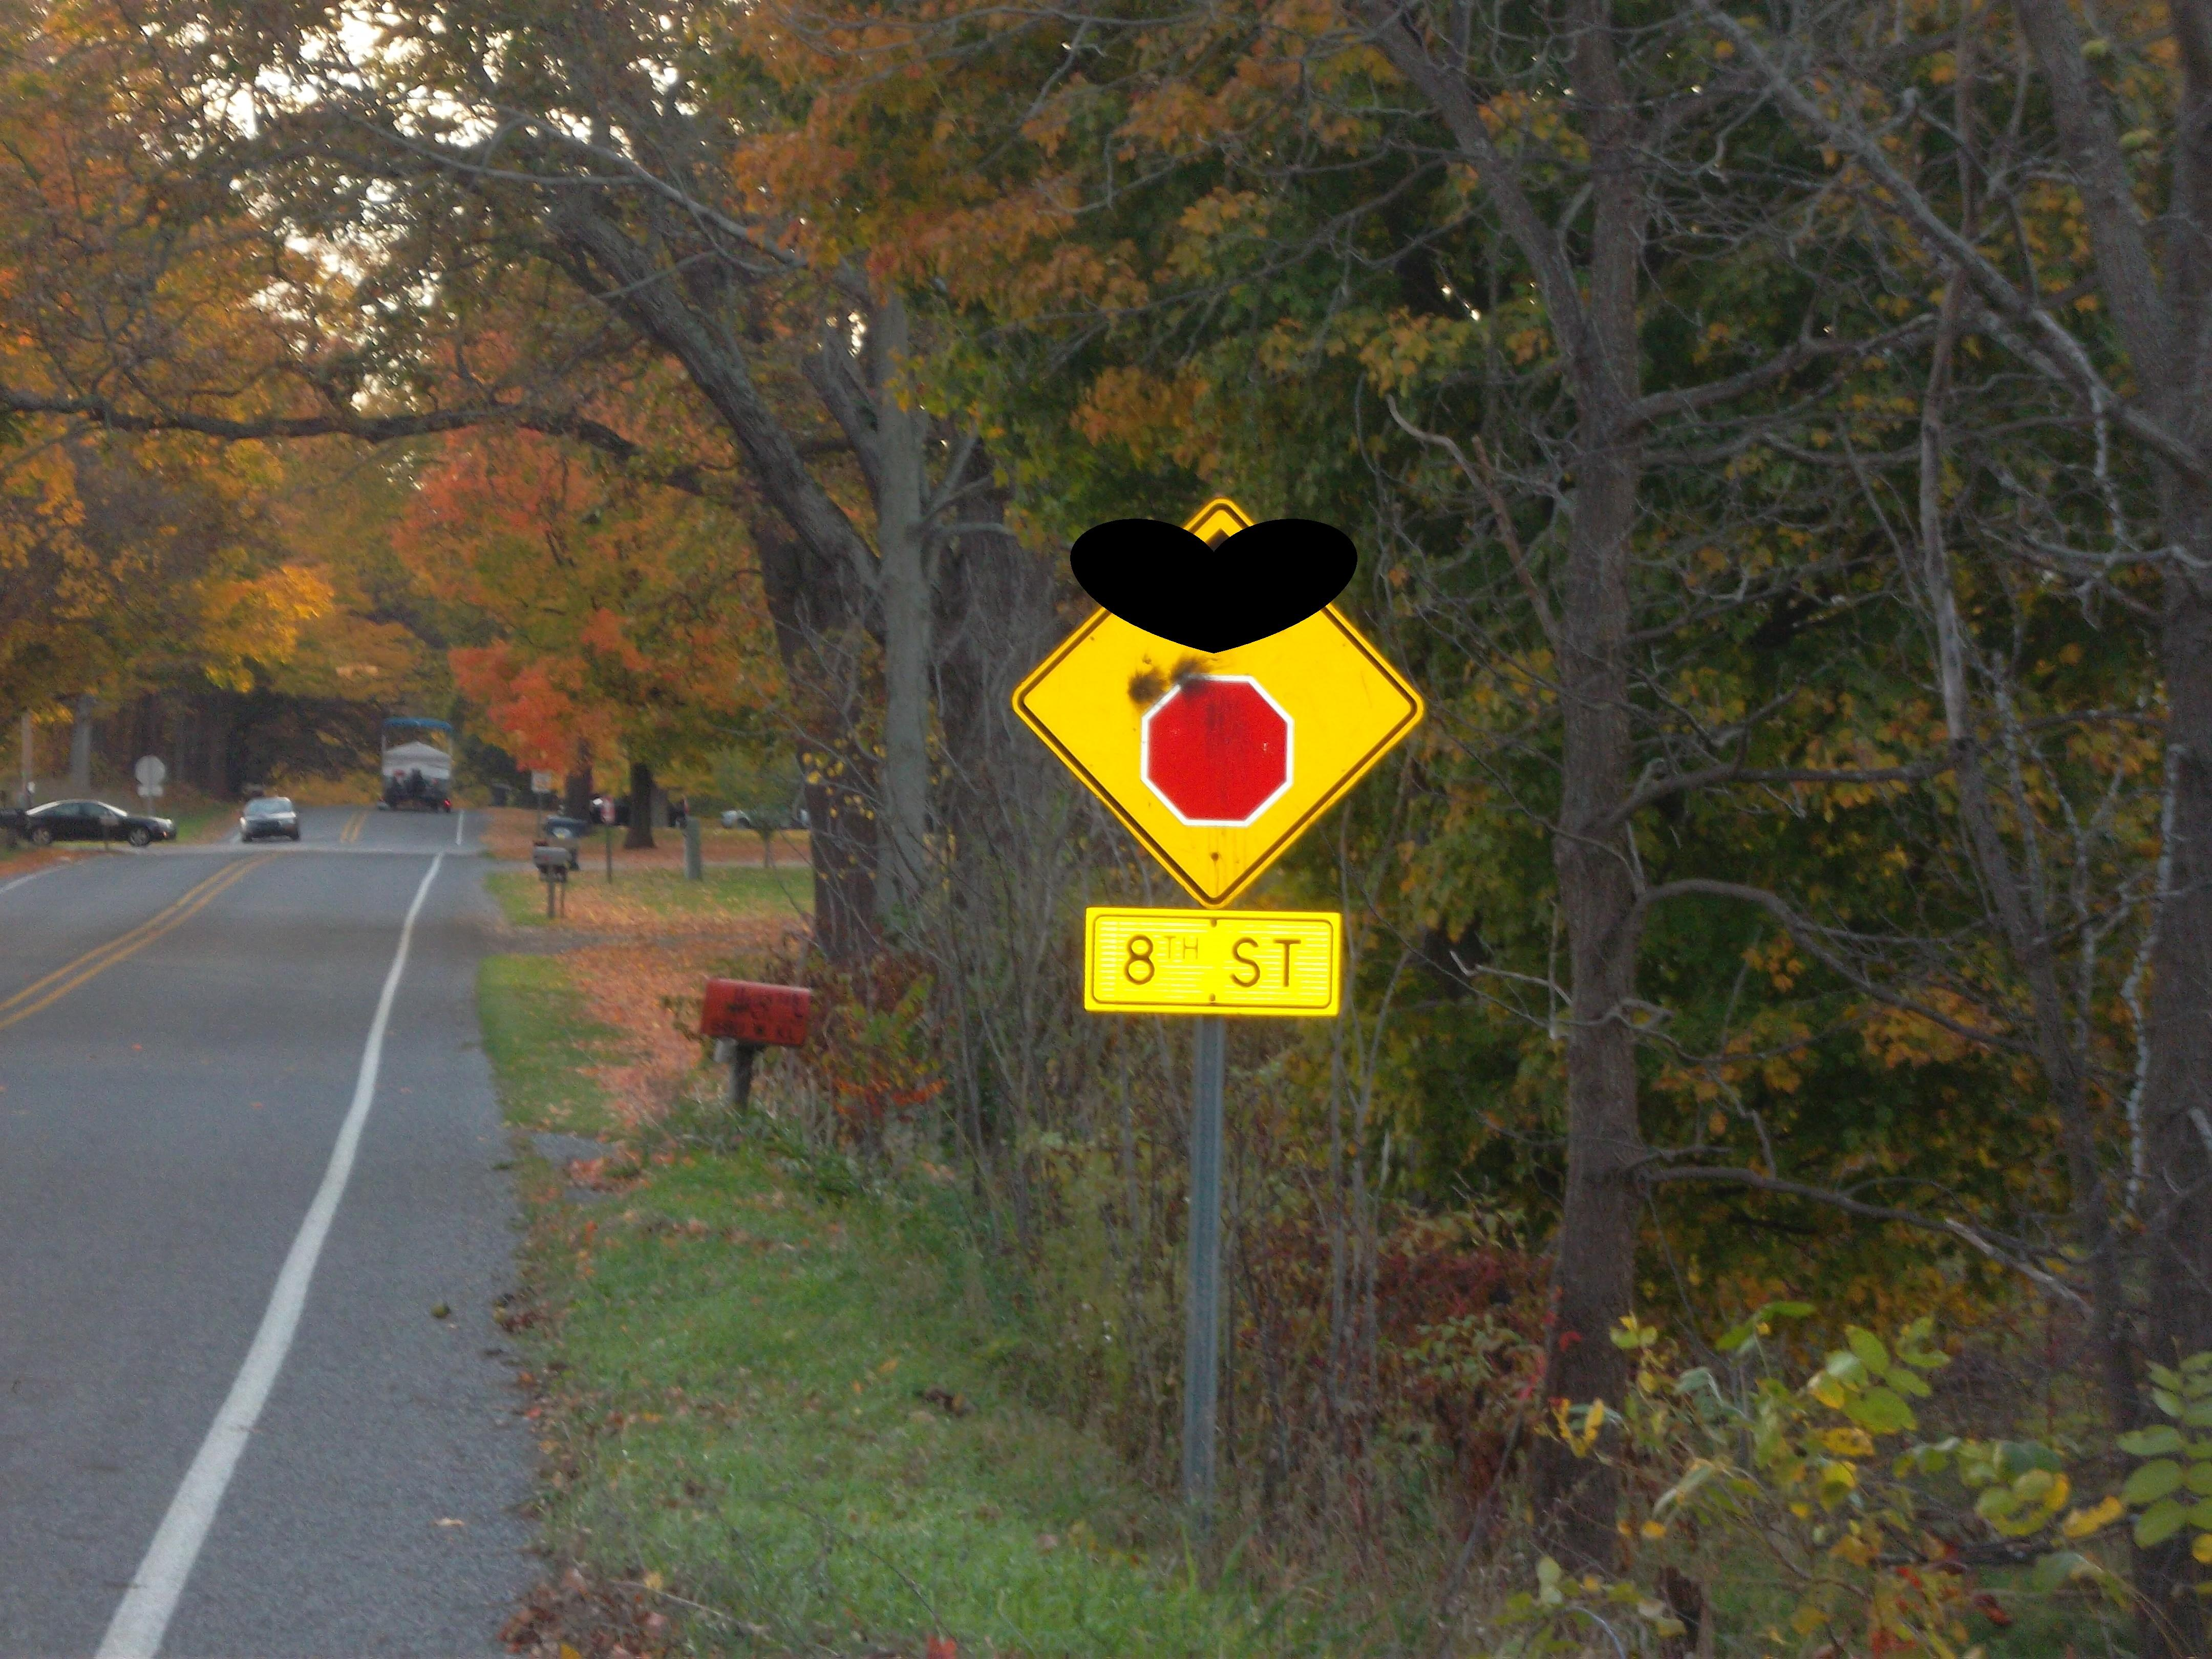warning: (995, 477, 1439, 901), (1073, 887, 1364, 1040)
